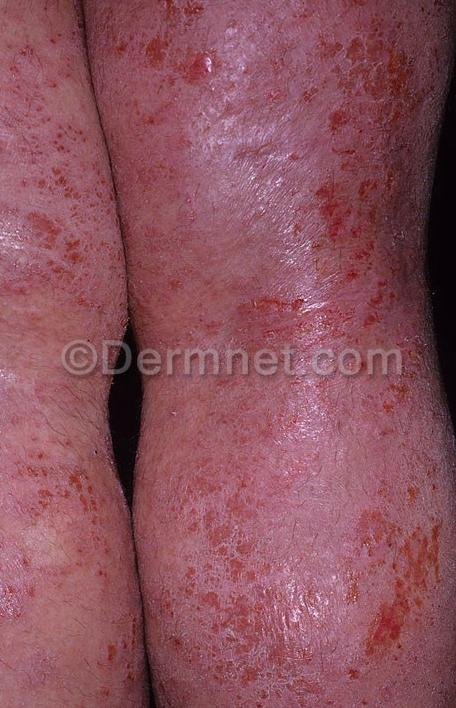Eritema 2: (0, 0, 456, 350)
exudacion 3: (0, 0, 444, 704)
xerosis 1: (147, 575, 252, 692)
xerosis 2: (402, 0, 456, 663), (90, 303, 133, 544)
